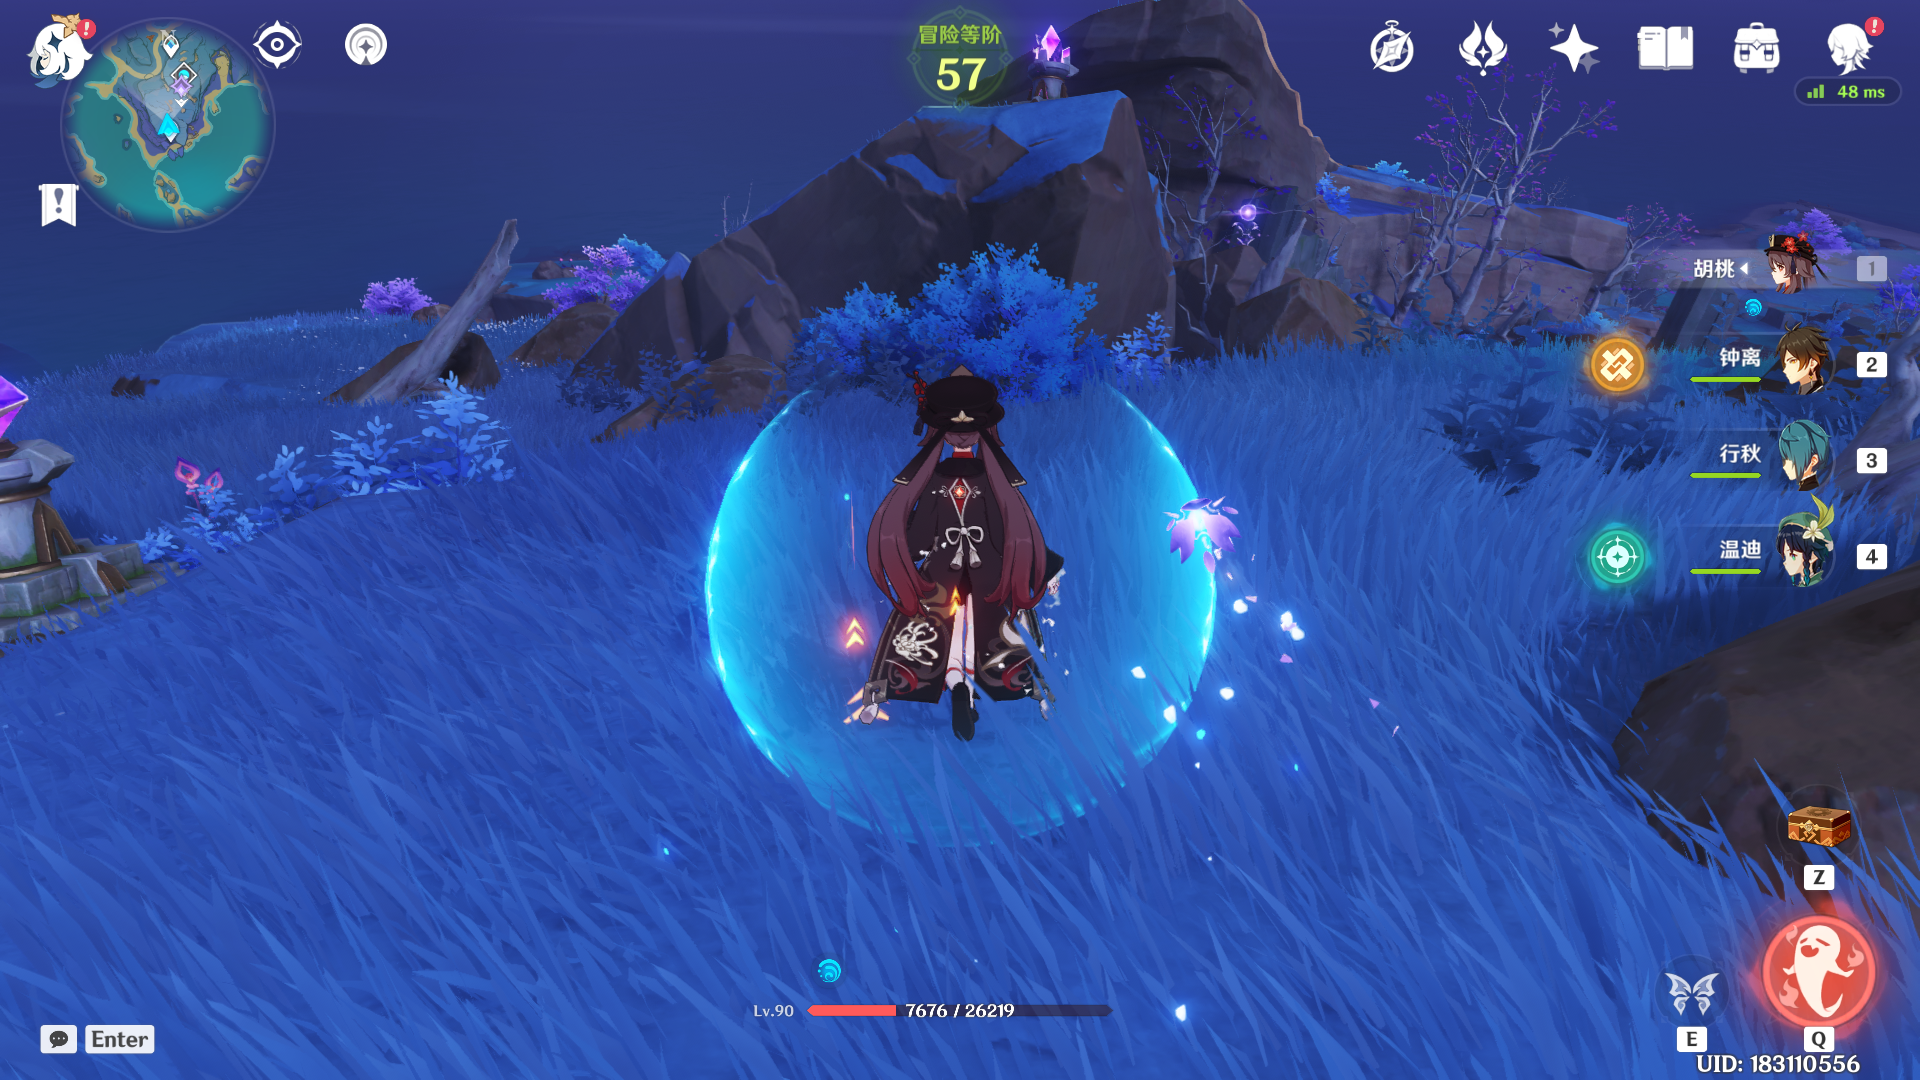character: (782, 356, 1116, 769)
